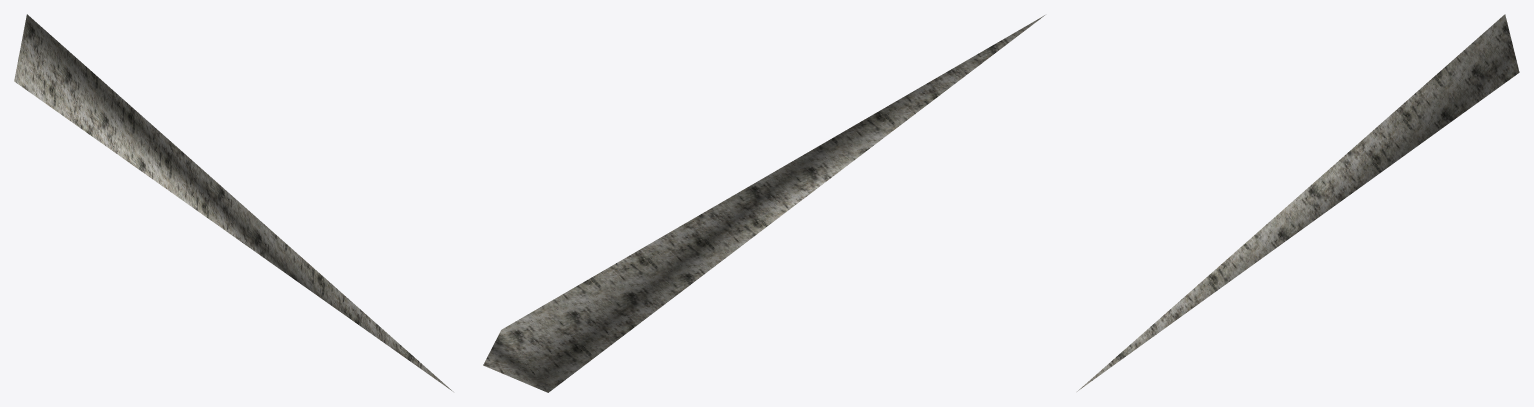
Rendered from decd_whitebirchlog_lg_l3.fbx.
3 renders of one model, left to right at view 1: azimuth 30°, elevation 25°; view 2: azimuth 150°, elevation 25°; view 3: azimuth 330°, elevation 25°, orthographic. The views are drawn at different scales.
Visible parts, largest first — view 1: mesh_node; view 2: mesh_node; view 3: mesh_node.
Boxes of the visible parts, x1,y1,x2,y2 form: mesh_node: (14,14,453,391); mesh_node: (483,15,1044,392); mesh_node: (1077,14,1519,391).
Size of the model in its own units: 0.8866 by 1.07 by 12.82.
